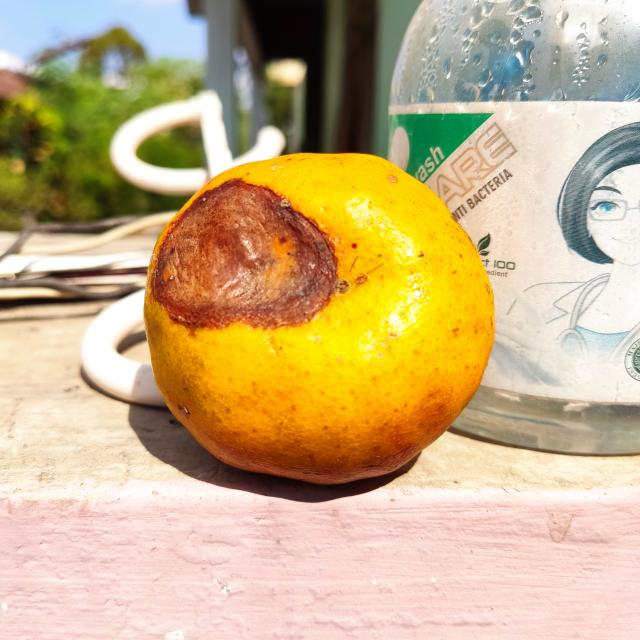orange: (138, 150, 497, 492)
